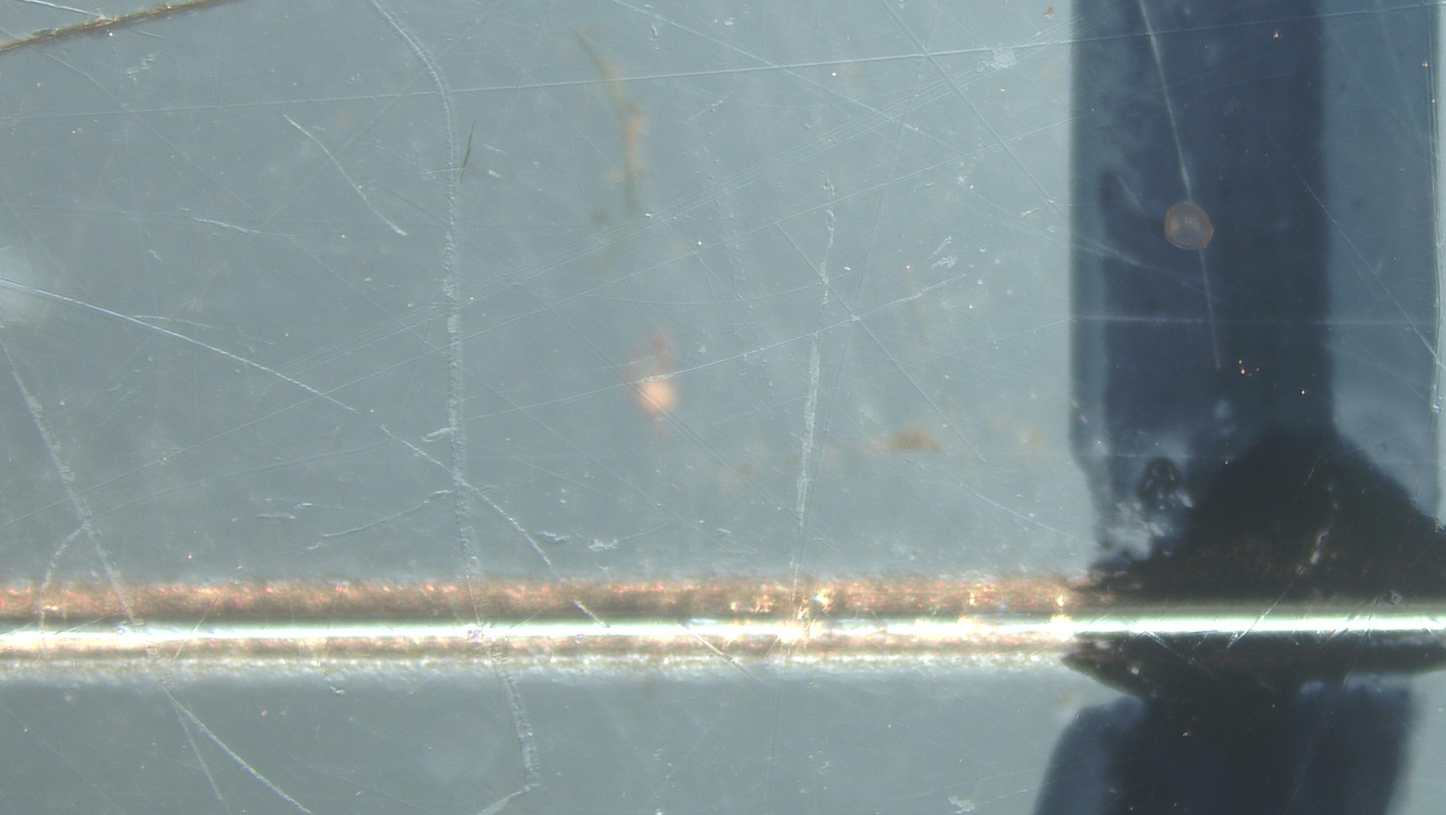live: (1164, 201, 1214, 250)
